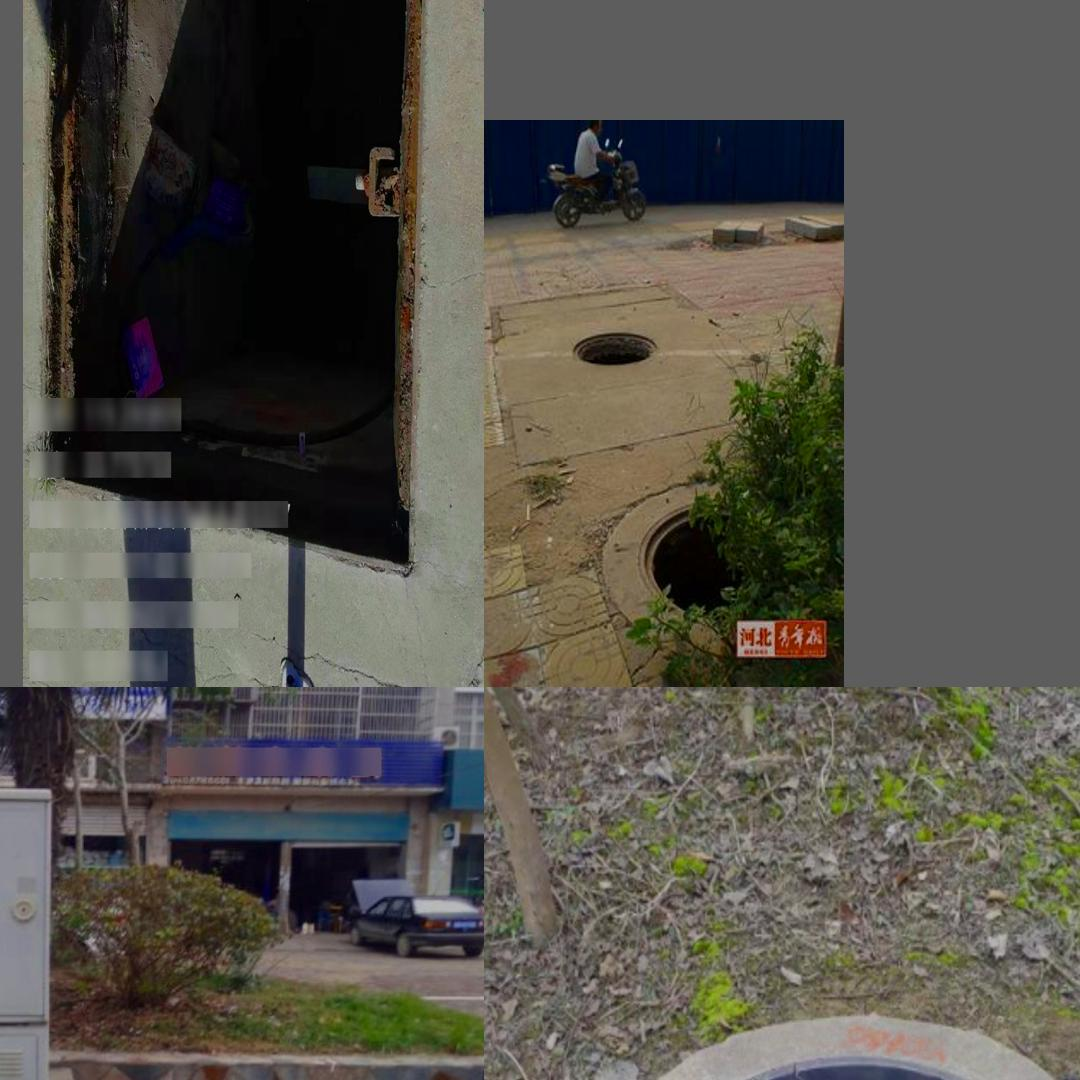lose: (35, 0, 433, 586), (609, 479, 812, 652), (602, 1053, 1080, 1080), (566, 320, 666, 377)
